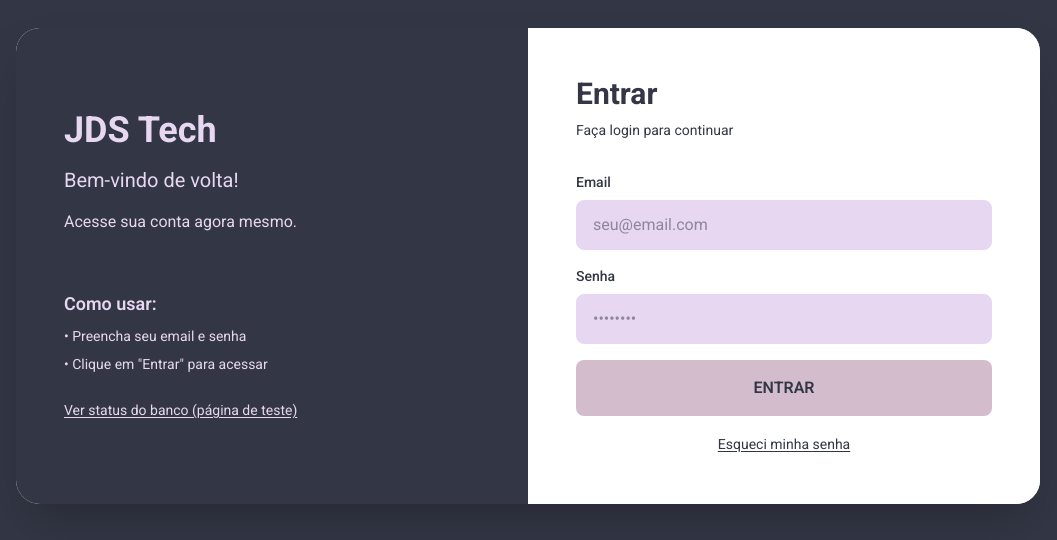
Scenario: LoginPage › Validação de Campos › deve mostrar erro quando senha está vazia
The image size is (1057, 540).
Type "teste@email.com" into the field labelled "Email" at x=784, y=225, box [576,200,992,250]
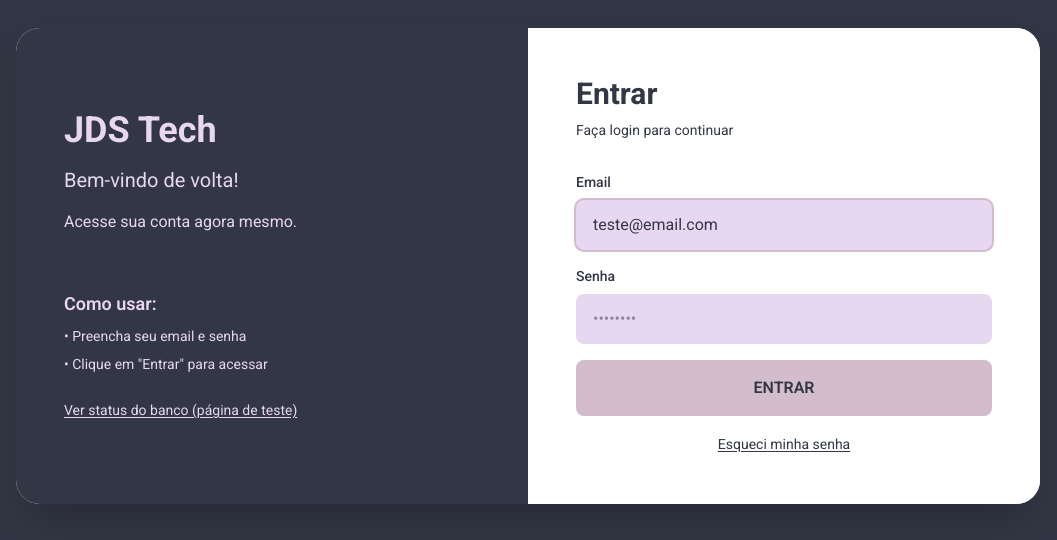
Click the button "ENTRAR" at x=784, y=388, box [576,360,992,416]
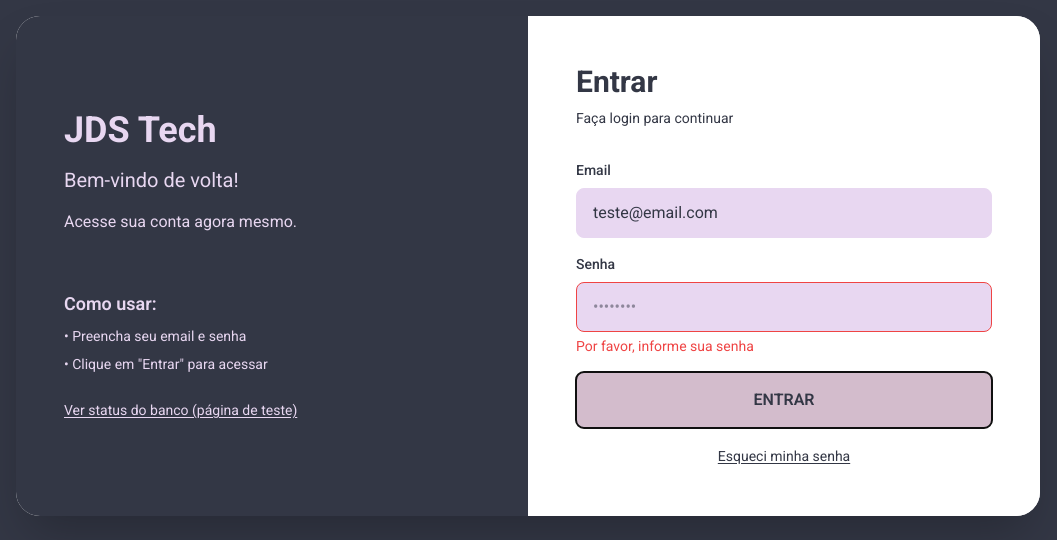
Check: the text "Por favor, informe sua senha" is shown, box [576,338,754,354]
